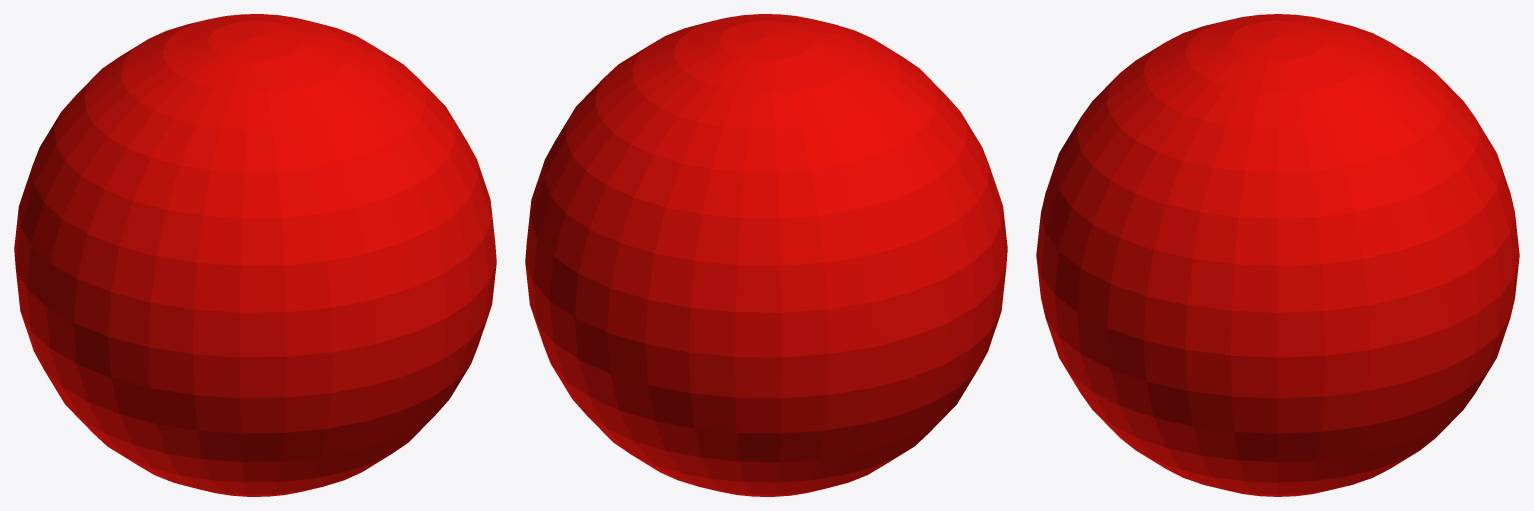
The model's file is gravity_pad-i2cQvli6.glb.
3 views of the same model, side by side, from view 1: azimuth 30°, elevation 25°; view 2: azimuth 150°, elevation 25°; view 3: azimuth 270°, elevation 25° (orthographic).
Parts seen in each view (by area): view 1: Sphere; view 2: Sphere; view 3: Sphere.
Part boxes in pixels (<box>): Sphere: <box>14,14,496,496</box>; Sphere: <box>525,14,1007,496</box>; Sphere: <box>1036,14,1519,496</box>.
Bounding box in the file's own units: 2 × 2 × 2.
